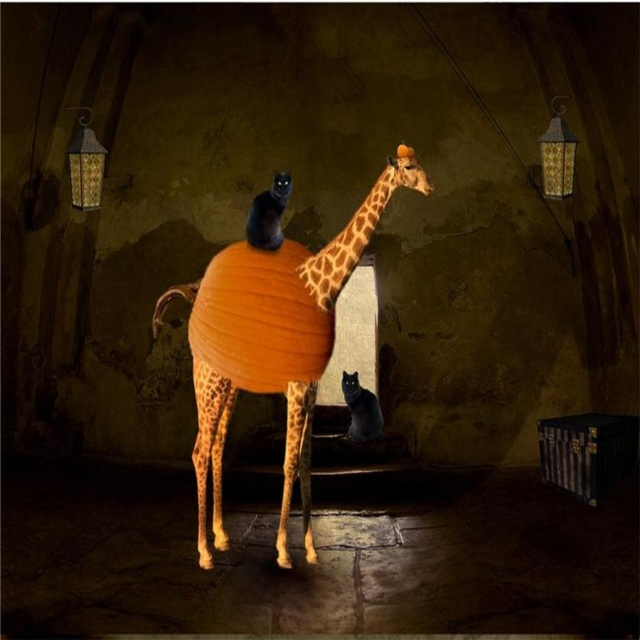Giraffe: (150, 136, 431, 570)
